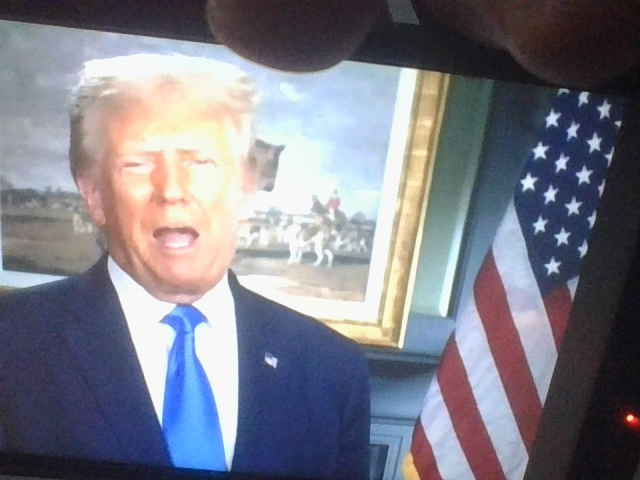fake: (82, 33, 266, 294)
